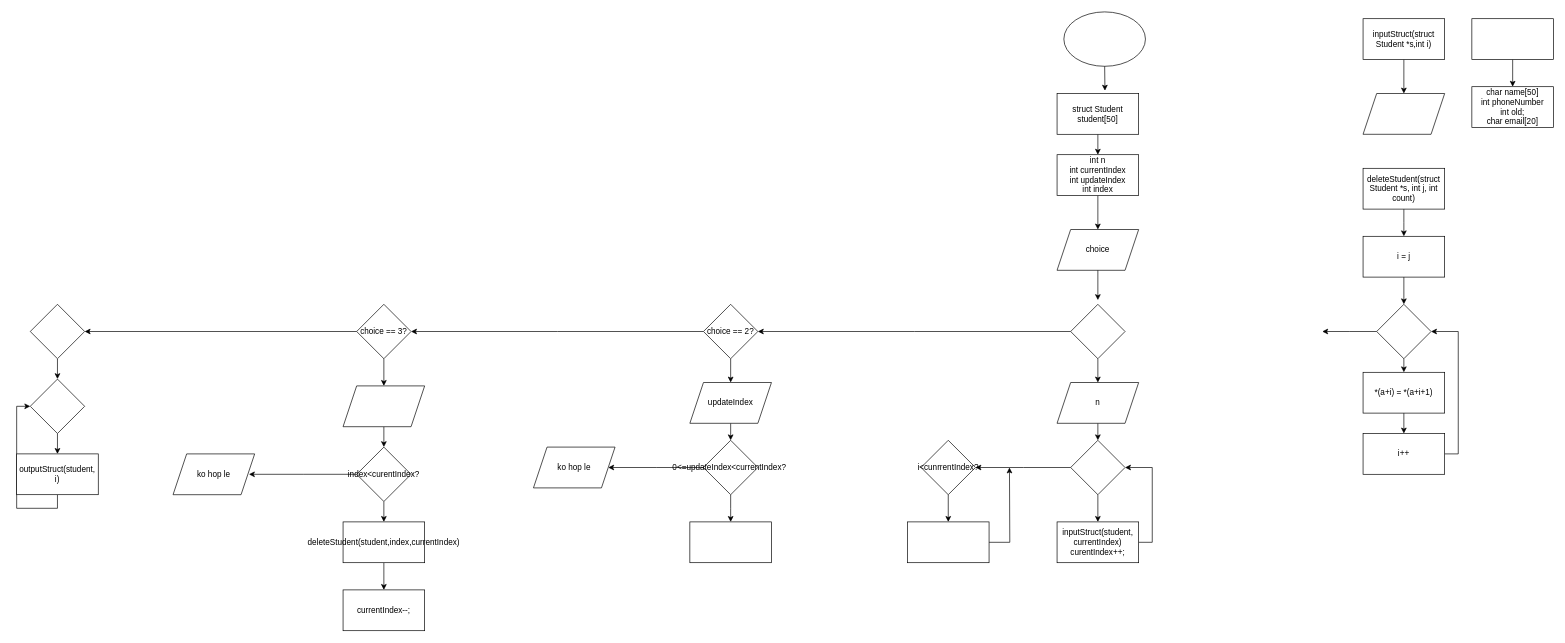
The diagram is 1565 pixels wide and 643 high, and some of its shapes have lost their labels. The box of each missing label's shape, as (x1, y1, x2, y2) in pixels:
choice == 4?: (30, 304, 85, 359)
choice ==1?: (1070, 304, 1125, 359)
i<count?: (1376, 304, 1431, 359)
i<currentIndex?: (30, 378, 85, 434)
i<n?: (1070, 440, 1125, 495)
indeex: (342, 385, 425, 427)
nhap thong tin sinh vien: (1362, 93, 1445, 134)
outputStruct(student,updateIndex): (689, 521, 771, 563)
outputStudent(student,i): (907, 521, 989, 563)
start: (1063, 11, 1145, 66)
struct Student: (1471, 18, 1553, 60)
